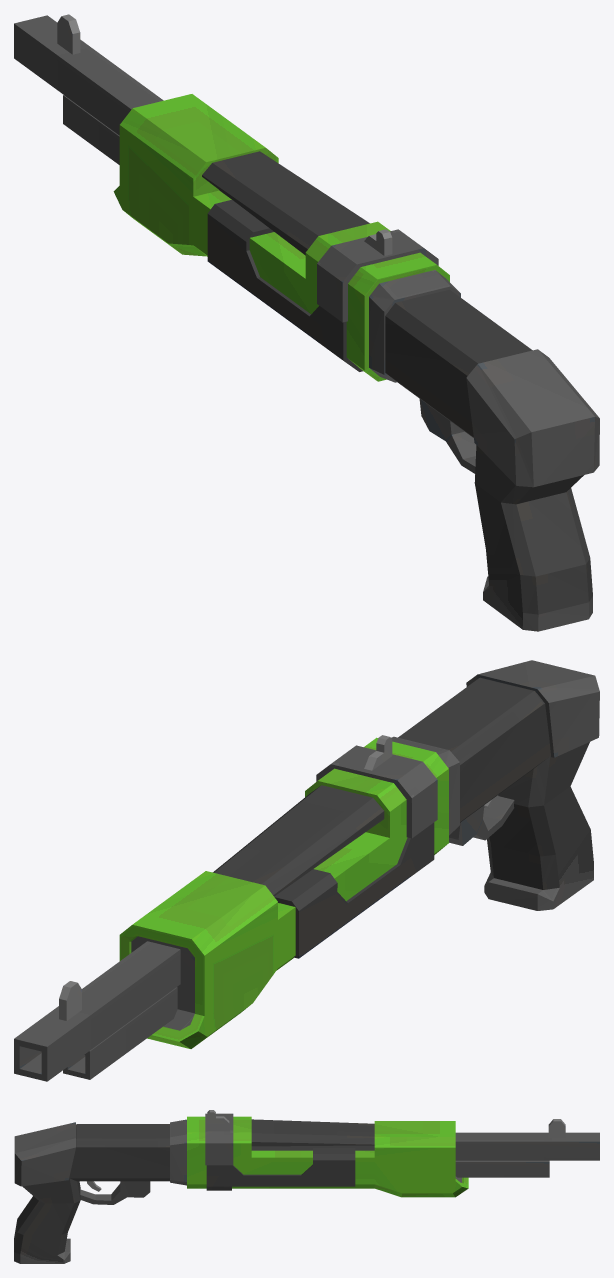
File: shotgun_2.glb
3 views of the same model, one above another, from view 1: azimuth 30°, elevation 25°; view 2: azimuth 150°, elevation 25°; view 3: azimuth 270°, elevation 25° (orthographic). The views are drawn at different scales.
Visible parts, largest first — view 1: shotgun_2; view 2: shotgun_2; view 3: shotgun_2.
Part boxes in pixels (left/top/right/bottom): shotgun_2: left=14, top=14, right=599, bottom=631; shotgun_2: left=14, top=660, right=599, bottom=1081; shotgun_2: left=14, top=1110, right=599, bottom=1263.
Bounding box in the file's own units: 0.0768 × 0.2003 × 0.7405.
Materials: 1 (1 with a texture image).
